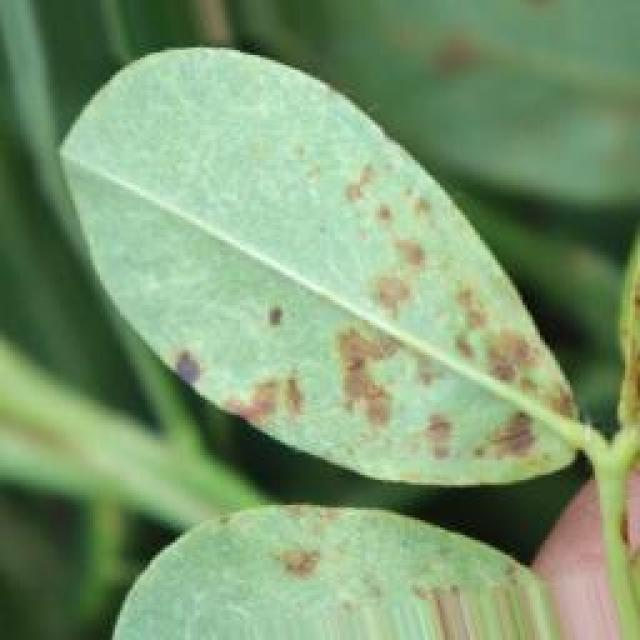Whitefly: (41, 108, 620, 640)
